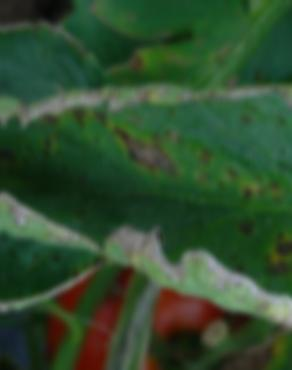Tomato Septoria leaf spot: (0, 0, 292, 348)
